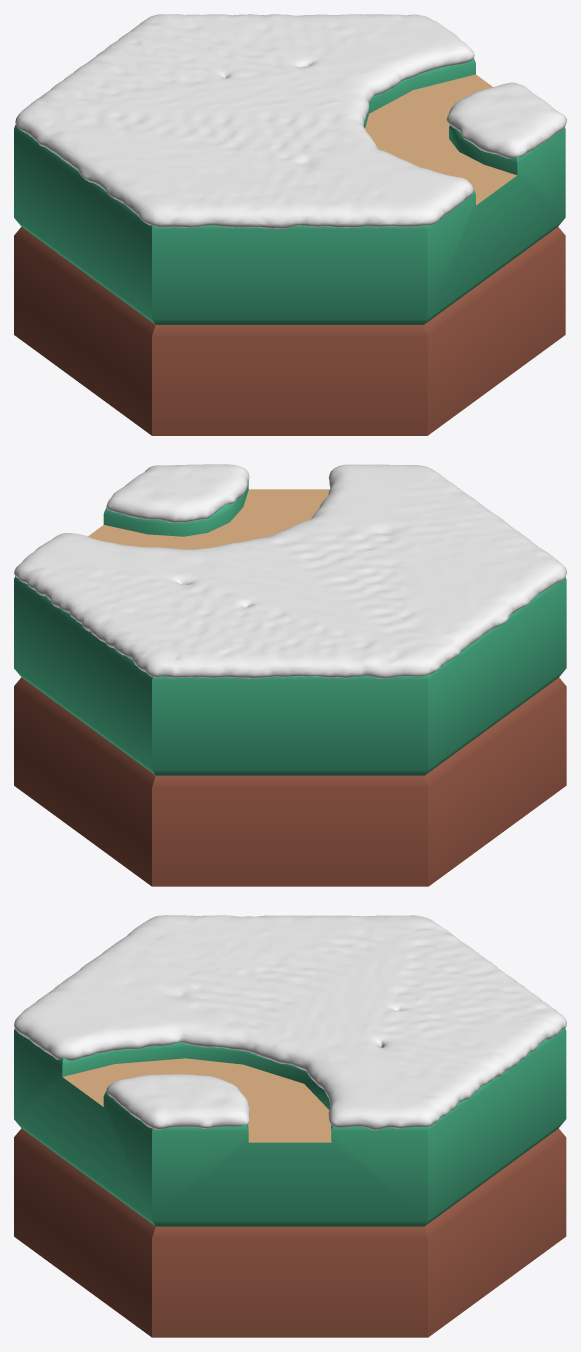
The model's file is snow_hex_forest_roadC_detail.fbx.
The picture shows the model from 3 angles, top to bottom: view 1: azimuth 30°, elevation 25°; view 2: azimuth 150°, elevation 25°; view 3: azimuth 270°, elevation 25°; orthographic projection.
Parts seen in each view (by area): view 1: SnowBall.001, hex_forest_roadC_detail.001, hex_forest_roadC_detail.002, hex_forest_roadC_detail; view 2: SnowBall.001, hex_forest_roadC_detail.001, hex_forest_roadC_detail.002, hex_forest_roadC_detail; view 3: SnowBall.001, hex_forest_roadC_detail.001, hex_forest_roadC_detail.002, hex_forest_roadC_detail.
Part boxes in pixels (x1,y1,x2,y2): SnowBall.001: (15,14,566,228); hex_forest_roadC_detail.001: (14,227,565,435); hex_forest_roadC_detail.002: (14,58,565,324); hex_forest_roadC_detail: (365,74,516,205); SnowBall.001: (14,464,566,678); hex_forest_roadC_detail.001: (14,677,566,886); hex_forest_roadC_detail.002: (14,481,566,775); hex_forest_roadC_detail: (88,489,329,549); SnowBall.001: (14,915,566,1130); hex_forest_roadC_detail.001: (14,1128,566,1337); hex_forest_roadC_detail.002: (14,1028,566,1226); hex_forest_roadC_detail: (63,1058,331,1142).
Bounding box in the file's own units: 204 × 104 × 231.
